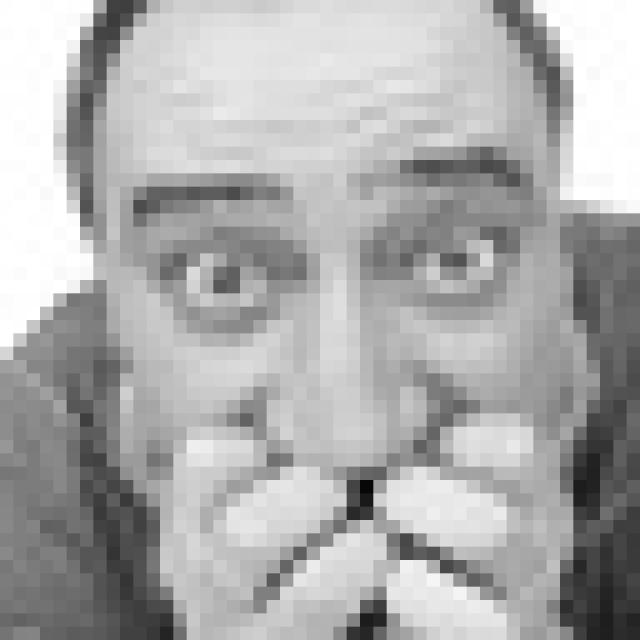fear: (120, 150, 540, 560)
